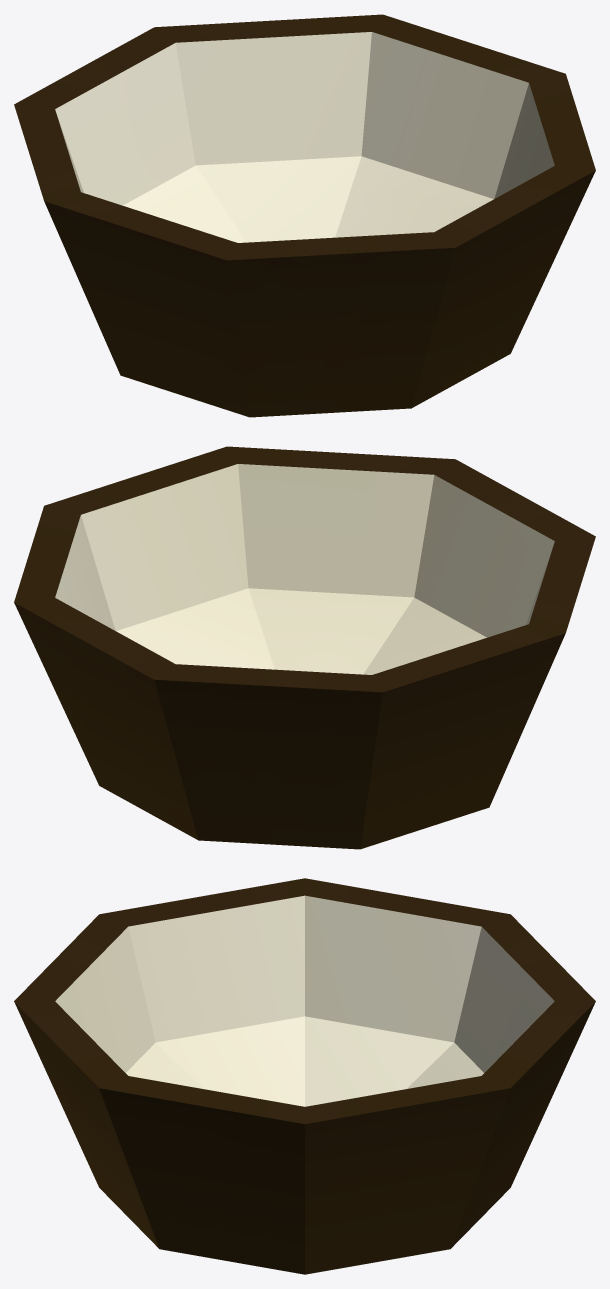
Rendered from Coconut_Halved.fbx.
The picture shows the model from 3 angles, top to bottom: view 1: azimuth 30°, elevation 25°; view 2: azimuth 150°, elevation 25°; view 3: azimuth 270°, elevation 25°; orthographic projection. The views are drawn at different scales.
Parts seen in each view (by area): view 1: Coconut_Halved; view 2: Coconut_Halved; view 3: Coconut_Halved.
Part boxes in pixels (box(x1,y1,x2,y2)): Coconut_Halved: box(14, 14, 595, 417); Coconut_Halved: box(14, 446, 595, 849); Coconut_Halved: box(14, 878, 595, 1274).
Size of the model in its own units: 34.04 by 34.04 by 17.02.
1 material, 1 textured.
